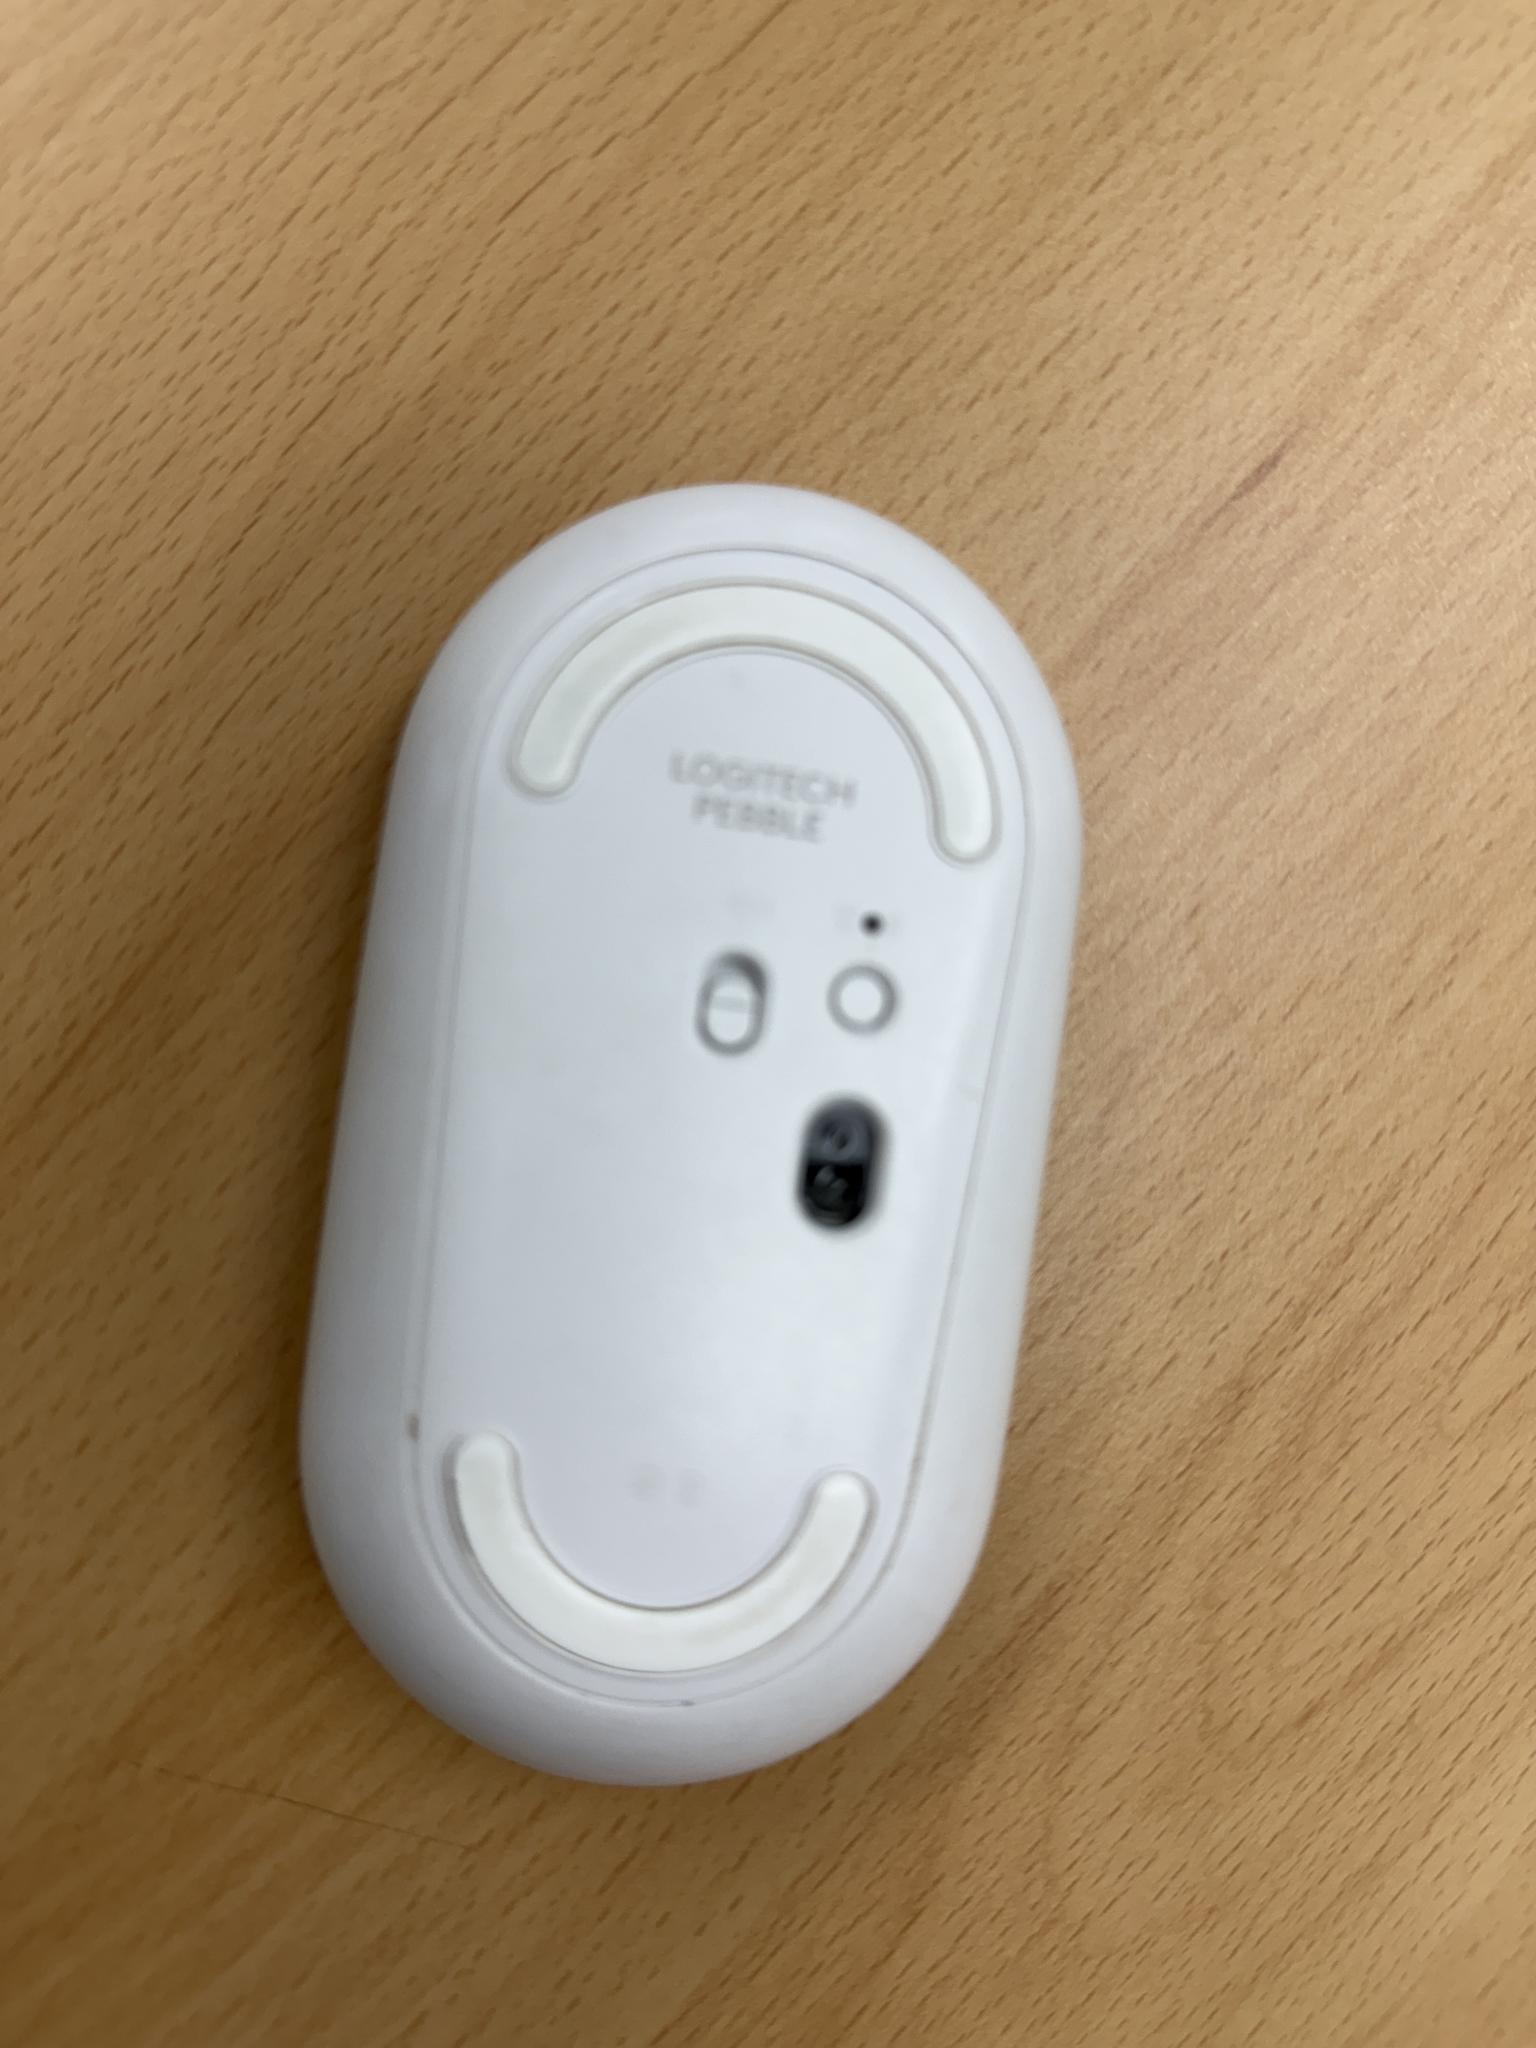back: (289, 468, 1092, 1798)
